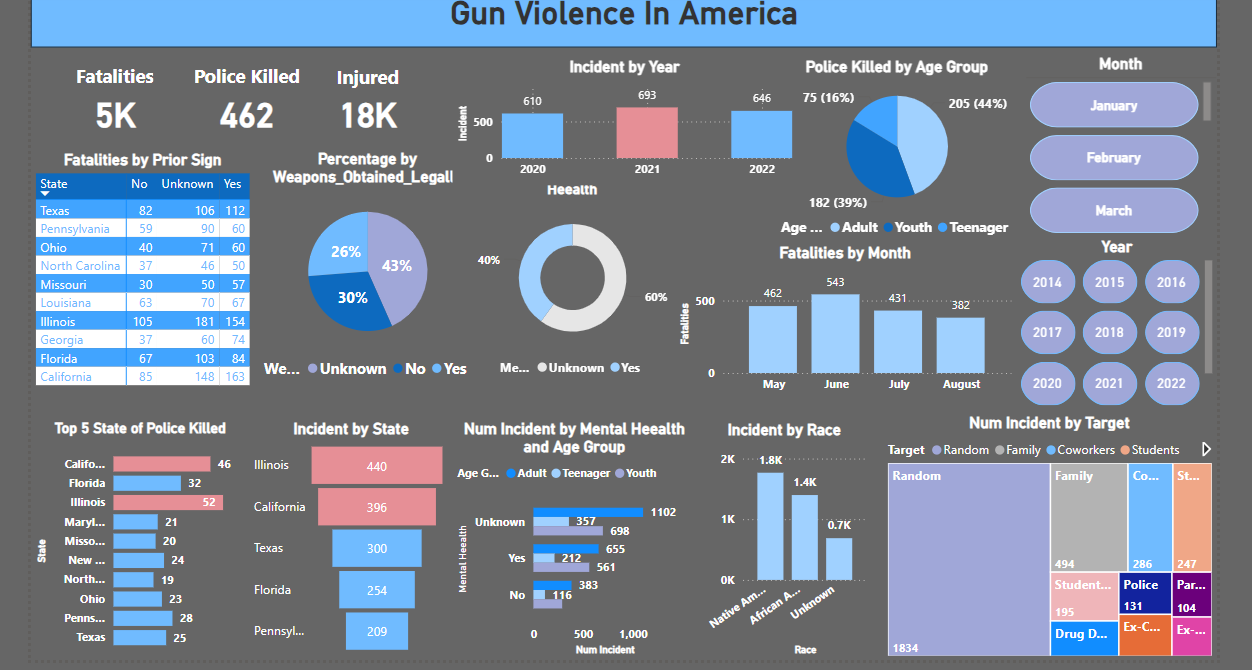

What the dashboard file says about the page in this screenshot:
{"tool":"powerbi","page":{"name":"Dashboard ","canvas":[1280,720],"ordinal":0},"visuals":[{"type":"cardVisual","fields":{"Data":["Sum(US-Gun-Violence (2).Injured)"]},"box":[298,58.4,129,110.6],"z":0},{"type":"cardVisual","fields":{"Data":["Sum(US-Gun-Violence (2).Fatalities)"]},"box":[0,58.4,179.7,98.3],"z":1000},{"type":"cardVisual","fields":{"Data":["Sum(US-Gun-Violence (2).Police Killed)"]},"box":[155.2,58.4,153.6,98.3],"z":2000},{"type":"pieChart","fields":{"Category":["US-Gun-Violence (2).Weapons_Obtained_Legally"],"Y":["CountNonNull(US-Gun-Violence (2).Weapons_Obtained_Legally)"]},"box":[234.6,167.6,257,257],"z":3000},{"type":"clusteredBarChart","title":"Top 5 State of Police Killed","fields":{"Category":["US-Gun-Violence (2).State"],"Y":["Sum(US-Gun-Violence (2).Police Killed)"]},"box":[0,460,234.6,258.9],"z":4000},{"type":"funnel","fields":{"Category":["US-Gun-Violence (2).State"],"Y":["CountNonNull(US-Gun-Violence (2).Incident_id)"]},"box":[235.3,459.5,220.4,259.6],"z":5000},{"type":"treemap","fields":{"Values":["CountNonNull(US-Gun-Violence (2).Incident_id)"],"Group":["US-Gun-Violence (2).Target"]},"box":[920.2,453.2,359.5,267.3],"z":6000},{"type":"clusteredBarChart","fields":{"Category":["US-Gun-Violence (2).Mental Heealth"],"Series":["US-Gun-Violence (2).Age Group"],"Y":["CountNonNull(US-Gun-Violence (2).Incident_id)"]},"box":[455.7,459.5,263.3,259.6],"z":7000},{"type":"pivotTable","title":"Fatalities by Prior Sign","fields":{"Rows":["US-Gun-Violence (2).State"],"Values":["CountNonNull(US-Gun-Violence (2).Fatalities)"],"Columns":["US-Gun-Violence (2).Prior_signs_mental_health_issues"]},"box":[0,170.5,241.2,271.9],"z":8000},{"type":"lineClusteredColumnComboChart","fields":{"Y":["CountNonNull(US-Gun-Violence (2).Incident_id)"],"Category":["US-Gun-Violence (2).Race"]},"box":[719.1,461.3,188.6,257.7],"z":9000},{"type":"shape","title":"Gun Violence In America","box":[0,0,1279.7,58.4],"z":10000},{"type":"advancedSlicerVisual","title":"Year","fields":{"Values":["US-Gun-Violence (2).Date.Variation.Date Hierarchy.Year"]},"box":[1063.1,264.2,216.6,189],"z":11000},{"type":"advancedSlicerVisual","fields":{"Values":["US-Gun-Violence (2).Date.Variation.Date Hierarchy.Month"]},"box":[1073.9,66.1,205.9,198.2],"z":12000},{"type":"columnChart","fields":{"Category":["US-Gun-Violence (2).Date.Variation.Date Hierarchy.Month"],"Y":["Sum(US-Gun-Violence (2).Fatalities)"]},"box":[694.6,270,368.7,169.5],"z":13000},{"type":"pieChart","fields":{"Y":["Sum(US-Gun-Violence (2).Police Killed)"],"Category":["US-Gun-Violence (2).Age Group"]},"box":[795.2,68.9,279.3,203],"z":14000},{"type":"donutChart","fields":{"Y":["Sum(US-Gun-Violence (2).Total Victim)"],"Category":["US-Gun-Violence (2).Mental Heealth","US-Gun-Violence (2).Date.Variation.Date Hierarchy.Year"]},"box":[474.9,184.4,219.7,238.4],"z":15000},{"type":"clusteredColumnChart","fields":{"Y":["CountNonNull(US-Gun-Violence (2).Incident_id)"],"Category":["US-Gun-Violence (2).Date.Variation.Date Hierarchy.Year"]},"box":[455.7,69.1,371.7,138.2],"z":15001}]}

Visuals, with their boxes on the page's 1280x720 design canvas (x1, y1, x2, y2). These are canvas units, not pixel positions in the 1252x670 screenshot, which may show the page scaled, cropped or inside an application window:
cardVisual - Sum(US-Gun-Violence (2).Injured): [left=298, top=58, right=427, bottom=169]
cardVisual - Sum(US-Gun-Violence (2).Fatalities): [left=0, top=58, right=180, bottom=157]
cardVisual - Sum(US-Gun-Violence (2).Police Killed): [left=155, top=58, right=309, bottom=157]
pieChart - US-Gun-Violence (2).Weapons_Obtained_Legally x CountNonNull(US-Gun-Violence (2).Weapons_Obtained_Legally): [left=235, top=168, right=492, bottom=425]
"Top 5 State of Police Killed" clusteredBarChart: [left=0, top=460, right=235, bottom=719]
funnel - US-Gun-Violence (2).State x CountNonNull(US-Gun-Violence (2).Incident_id): [left=235, top=460, right=456, bottom=719]
treemap - CountNonNull(US-Gun-Violence (2).Incident_id) x US-Gun-Violence (2).Target: [left=920, top=453, right=1280, bottom=720]
clusteredBarChart - US-Gun-Violence (2).Mental Heealth x US-Gun-Violence (2).Age Group: [left=456, top=460, right=719, bottom=719]
"Fatalities by Prior Sign" pivotTable: [left=0, top=170, right=241, bottom=442]
lineClusteredColumnComboChart - CountNonNull(US-Gun-Violence (2).Incident_id) x US-Gun-Violence (2).Race: [left=719, top=461, right=908, bottom=719]
"Gun Violence In America" shape: [left=0, top=0, right=1280, bottom=58]
"Year" advancedSlicerVisual: [left=1063, top=264, right=1280, bottom=453]
advancedSlicerVisual - US-Gun-Violence (2).Date.Variation.Date Hierarchy.Month: [left=1074, top=66, right=1280, bottom=264]
columnChart - US-Gun-Violence (2).Date.Variation.Date Hierarchy.Month x Sum(US-Gun-Violence (2).Fatalities): [left=695, top=270, right=1063, bottom=440]
pieChart - Sum(US-Gun-Violence (2).Police Killed) x US-Gun-Violence (2).Age Group: [left=795, top=69, right=1074, bottom=272]
donutChart - Sum(US-Gun-Violence (2).Total Victim) x US-Gun-Violence (2).Mental Heealth: [left=475, top=184, right=695, bottom=423]
clusteredColumnChart - CountNonNull(US-Gun-Violence (2).Incident_id) x US-Gun-Violence (2).Date.Variation.Date Hierarchy.Year: [left=456, top=69, right=827, bottom=207]
